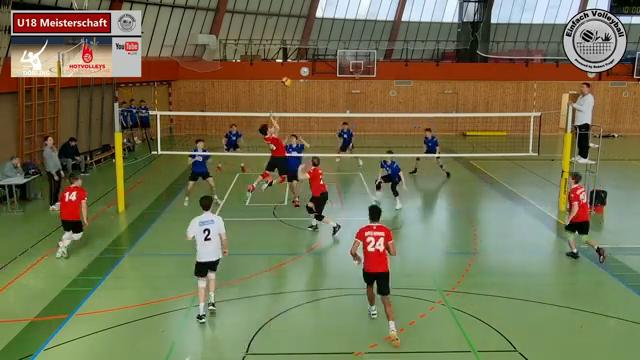attacco: (245, 112, 288, 197)
